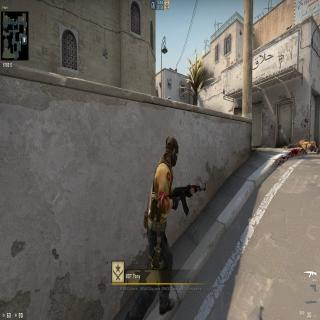T-Head: (164, 133, 180, 172)
